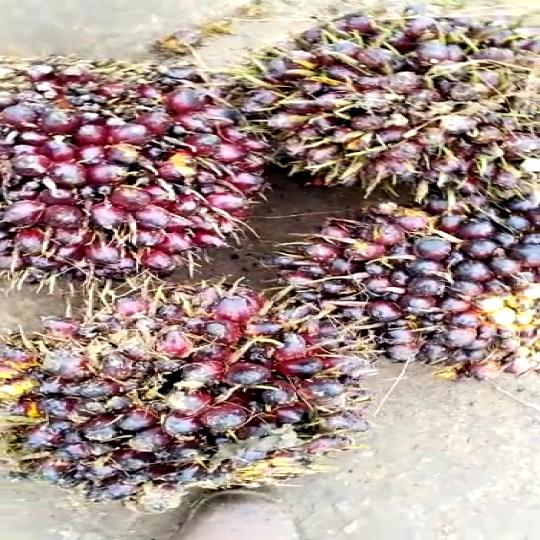kurang masak: (0, 272, 368, 498), (0, 41, 291, 274), (231, 0, 538, 216), (268, 186, 540, 424)
